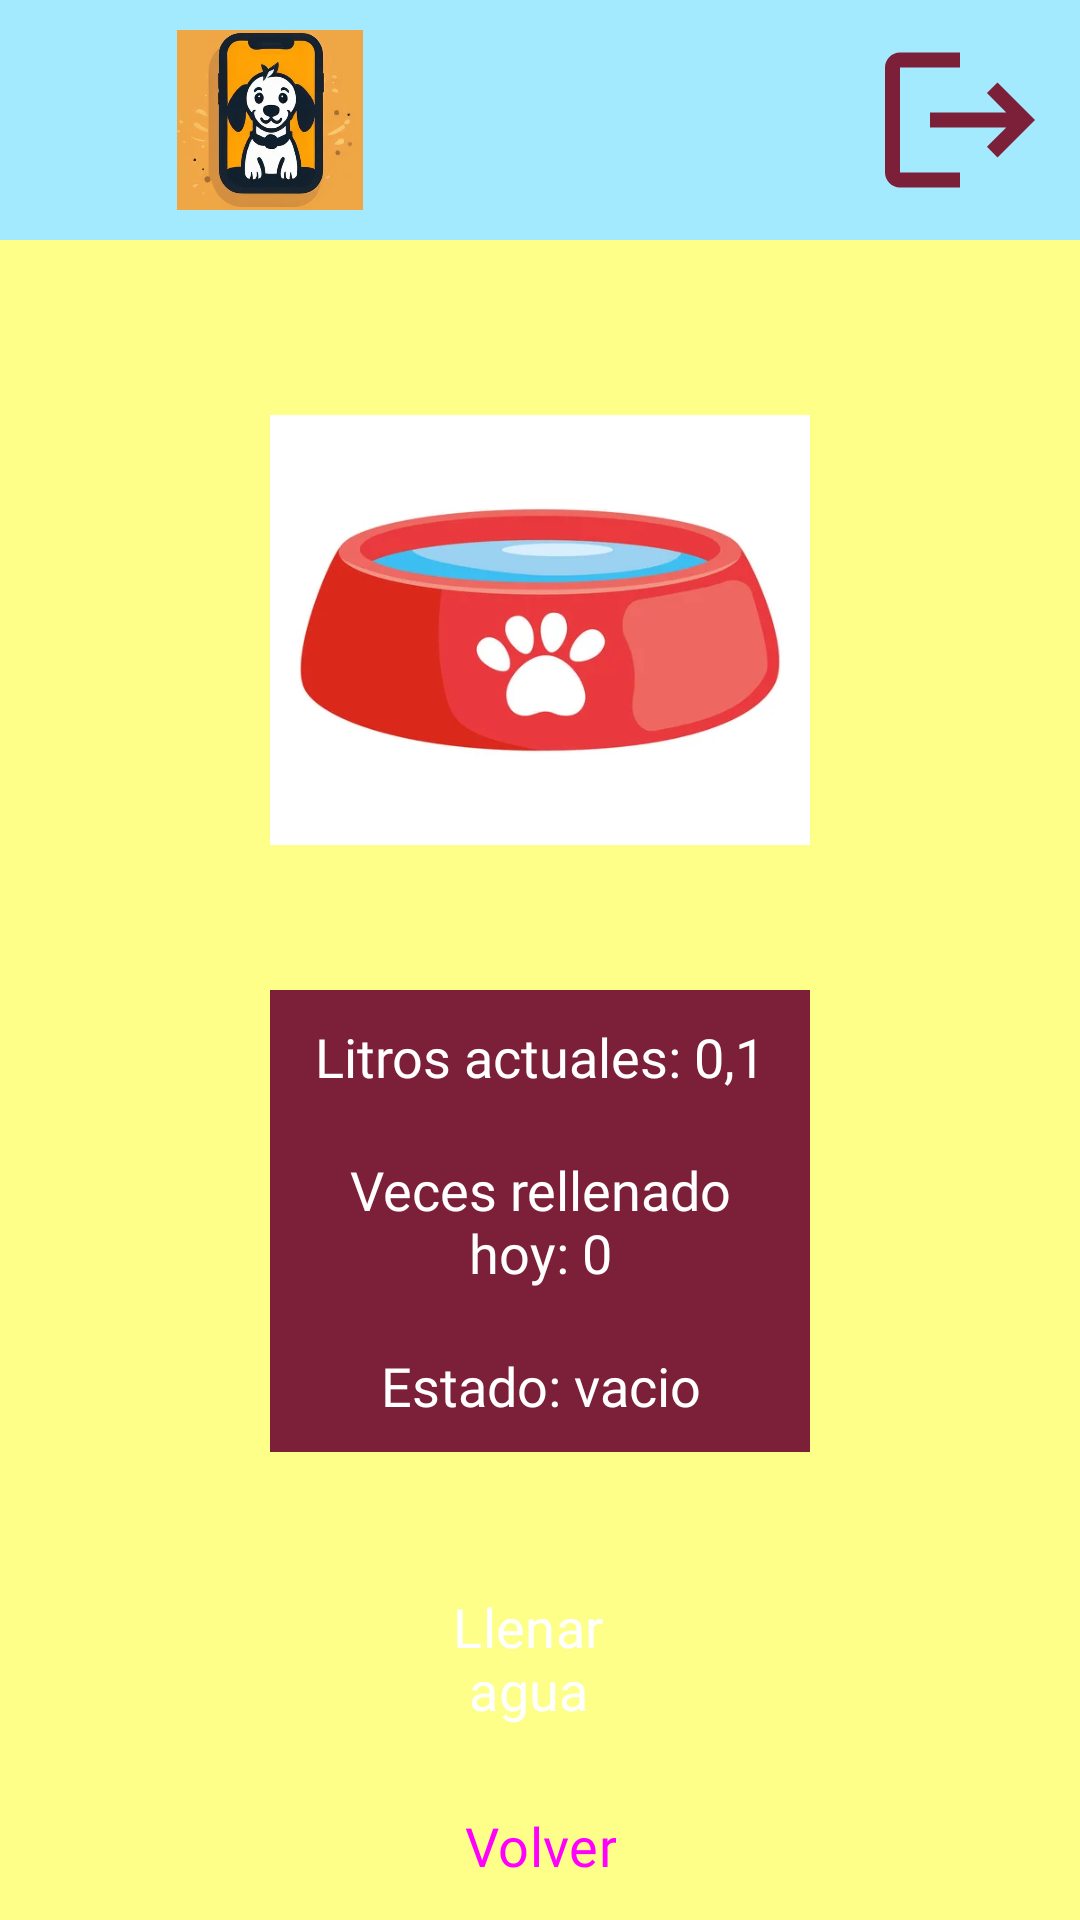

Named icons in this screenshot (1080×1920) and their centers, [x,y]:
Icono salir: [960,120]
